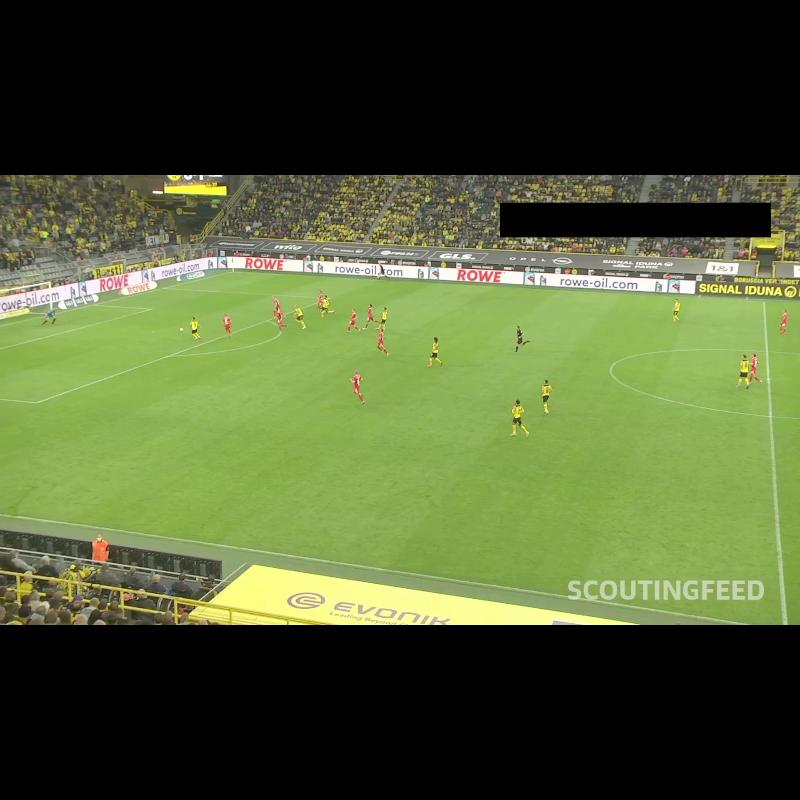cross_recipient_zone: (0, 288, 330, 403)
crossing_player_zone: (0, 398, 185, 513), (167, 272, 466, 304)
pitch: (0, 272, 800, 625)
